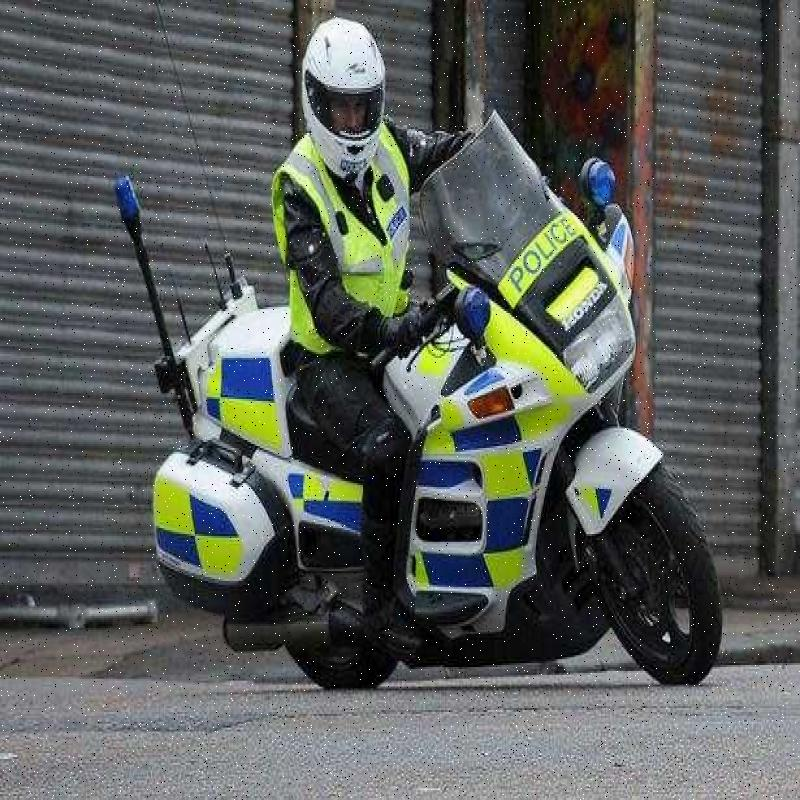bike: (91, 116, 736, 686)
